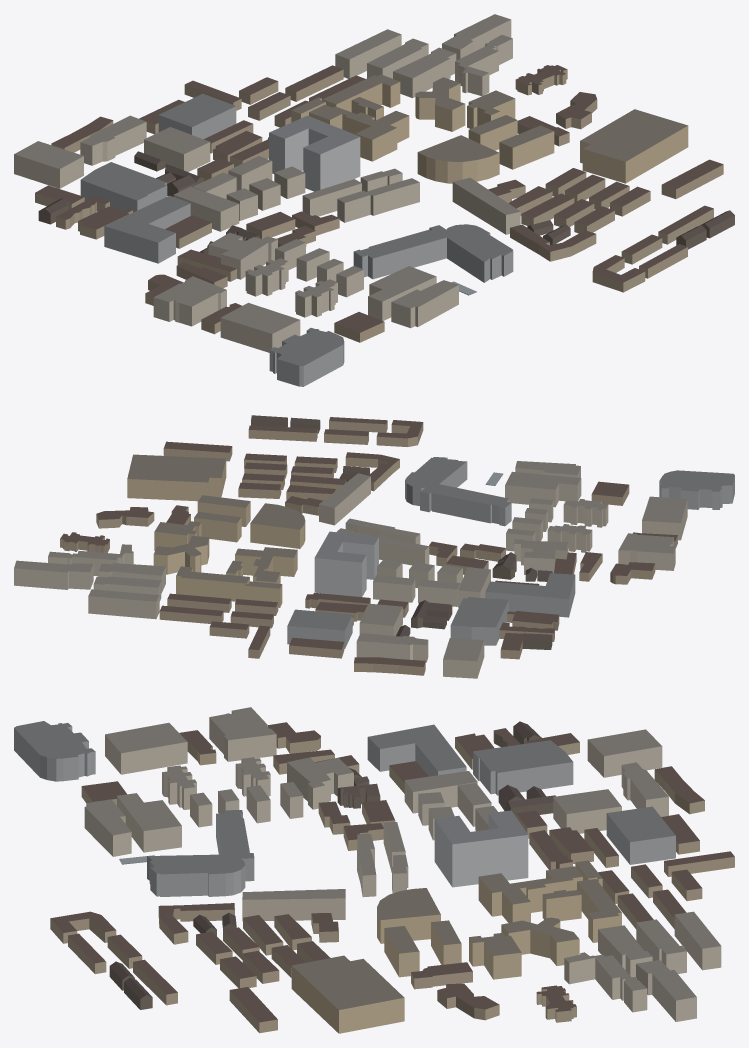
The model's file is tile_5_2.glb.
3 views of the same model, one above another, from view 1: azimuth 30°, elevation 25°; view 2: azimuth 150°, elevation 25°; view 3: azimuth 270°, elevation 25° (orthographic). The views are drawn at different scales.
Visible parts, largest first — view 1: HP-w1516161895, HP-w538432106, HP-w1287260203, HP-w1512800291, HP-w1515076954, HP-w298265975, HP-w1287260198, HP-w1385510830, HP-w1515076976, HP-w1515076983, HP-w1287260196, HP-w1435852849 (+62 smaller); view 2: HP-w1516161895, HP-w538432106, HP-w1287260203, HP-w1512800291, HP-w1515076954, HP-w1287260198, HP-w298265975, HP-w1512800284, HP-w1201229327, HP-w1435852849, HP-w1385510830, HP-w1385510828 (+62 smaller); view 3: HP-w538432106, HP-w1287260203, HP-w1516161895, HP-w1287260198, HP-w1515076954, HP-w1512800291, HP-w1385510830, HP-w1515076976, HP-w1435852849, HP-w1512911304, HP-w1515076983, HP-w1516161920 (+70 smaller).
Part boxes in pixels (left/top/right/bottom): HP-w1516161895: left=353, top=224, right=513, bottom=282; HP-w538432106: left=580, top=109, right=688, bottom=183; HP-w1287260203: left=269, top=115, right=360, bottom=191; HP-w1512800291: left=104, top=195, right=190, bottom=263; HP-w1515076954: left=269, top=328, right=344, bottom=386; HP-w298265975: left=417, top=135, right=499, bottom=183; HP-w1287260198: left=80, top=162, right=167, bottom=212; HP-w1385510830: left=309, top=104, right=409, bottom=161; HP-w1515076976: left=220, top=302, right=300, bottom=352; HP-w1515076983: left=153, top=276, right=226, bottom=326; HP-w1287260196: left=14, top=141, right=83, bottom=188; HP-w1435852849: left=158, top=93, right=236, bottom=139; HP-w1516161895: left=405, top=457, right=511, bottom=526; HP-w538432106: left=127, top=454, right=226, bottom=501; HP-w1287260203: left=314, top=531, right=378, bottom=596; HP-w1512800291: left=485, top=573, right=575, bottom=617; HP-w1515076954: left=659, top=470, right=734, bottom=509; HP-w1287260198: left=450, top=597, right=508, bottom=645; HP-w298265975: left=250, top=503, right=305, bottom=548; HP-w1512800284: left=14, top=560, right=93, bottom=589; HP-w1201229327: left=505, top=471, right=581, bottom=507; HP-w1435852849: left=287, top=609, right=352, bottom=648; HP-w1385510830: left=235, top=547, right=297, bottom=583; HP-w1385510828: left=176, top=566, right=249, bottom=601; HP-w538432106: left=291, top=955, right=404, bottom=1033; HP-w1287260203: left=434, top=810, right=528, bottom=887; HP-w1516161895: left=147, top=810, right=254, bottom=896; HP-w1287260198: left=473, top=740, right=573, bottom=795; HP-w1515076954: left=14, top=721, right=95, bottom=781; HP-w1512800291: left=367, top=724, right=466, bottom=776; HP-w1385510830: left=478, top=866, right=582, bottom=922; HP-w1515076976: left=105, top=722, right=187, bottom=774; HP-w1435852849: left=606, top=806, right=675, bottom=864; HP-w1512911304: left=242, top=889, right=345, bottom=921; HP-w1515076983: left=209, top=707, right=276, bottom=761; HP-w1516161920: left=564, top=952, right=647, bottom=1012.
Size of the model in its own units: 547 by 36 by 546.
